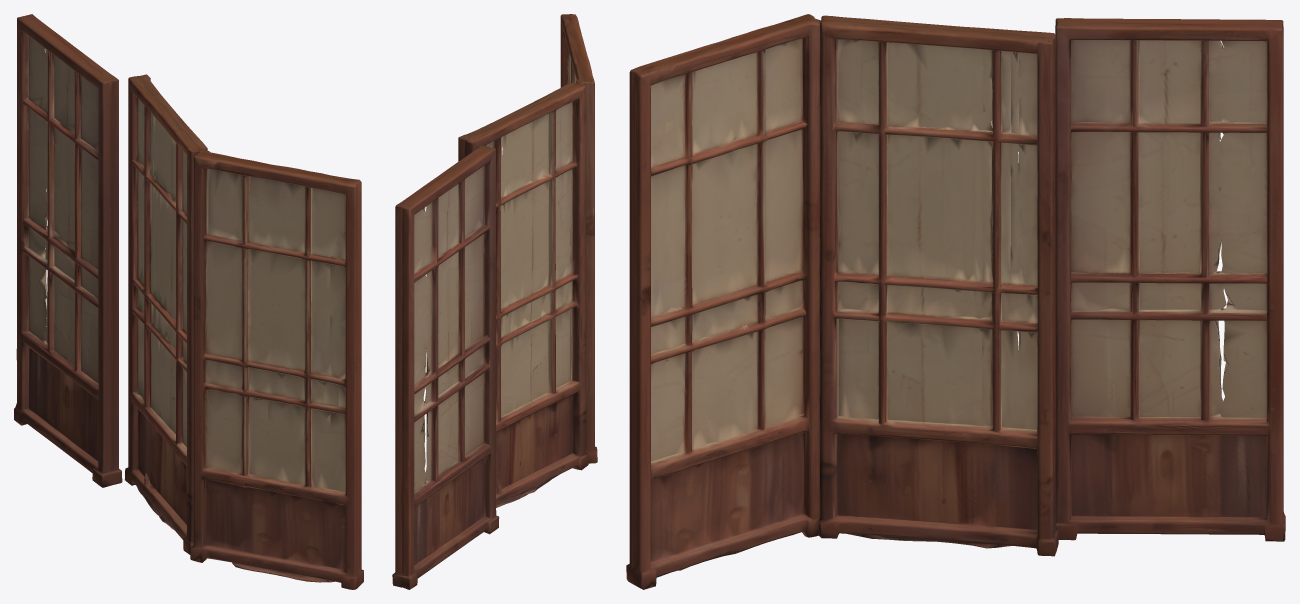
File: au_furn_shoji_screen.glb
3 renders of one model, left to right at view 1: azimuth 30°, elevation 25°; view 2: azimuth 150°, elevation 25°; view 3: azimuth 270°, elevation 25°, orthographic. The views are drawn at different scales.
Parts seen in each view (by area): view 1: tripo_node_23d95537-8904-4415-a5bf-53e9df2fa523; view 2: tripo_node_23d95537-8904-4415-a5bf-53e9df2fa523; view 3: tripo_node_23d95537-8904-4415-a5bf-53e9df2fa523.
Boxes of the visible parts, bbox=[...] form: tripo_node_23d95537-8904-4415-a5bf-53e9df2fa523: bbox=[14, 14, 363, 589]; tripo_node_23d95537-8904-4415-a5bf-53e9df2fa523: bbox=[392, 14, 597, 589]; tripo_node_23d95537-8904-4415-a5bf-53e9df2fa523: bbox=[626, 14, 1285, 589].
Bounding box in the file's own units: 0.5001 × 1.8 × 2.09.
Materials: 1 (1 with a texture image).
